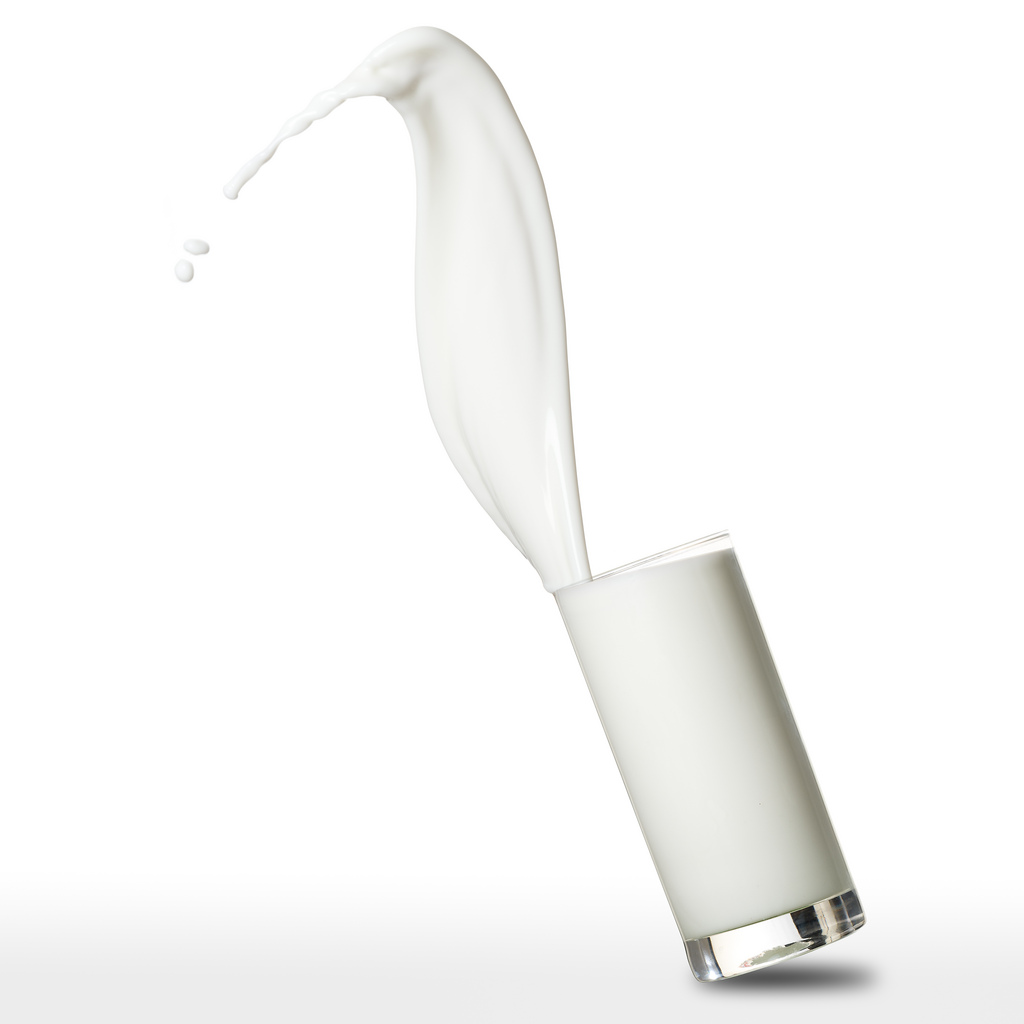glass of milk: (505, 461, 891, 989)
